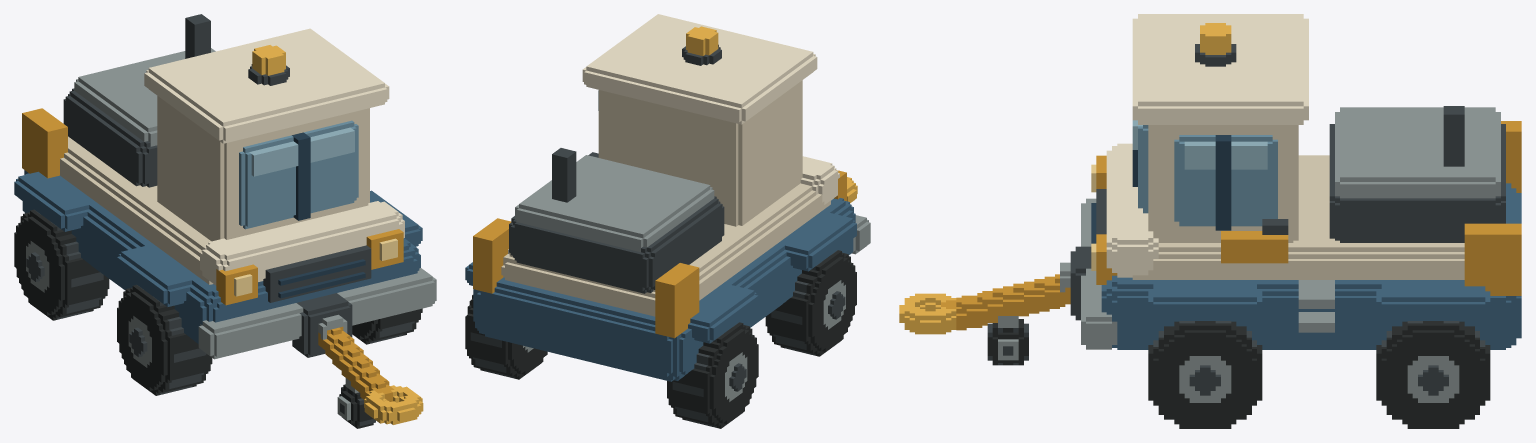
Rendered from airport_tug.glb.
3 views of the same model, side by side, from view 1: azimuth 30°, elevation 25°; view 2: azimuth 150°, elevation 25°; view 3: azimuth 270°, elevation 25° (orthographic). The views are drawn at different scales.
Visible parts, largest first — view 1: airport_tug; view 2: airport_tug; view 3: airport_tug.
Part boxes in pixels (<box>): airport_tug: <box>14,14,436,428</box>; airport_tug: <box>465,14,870,428</box>; airport_tug: <box>899,14,1521,428</box>.
Bounding box in the file's own units: 3.3 × 3.55 × 6.
